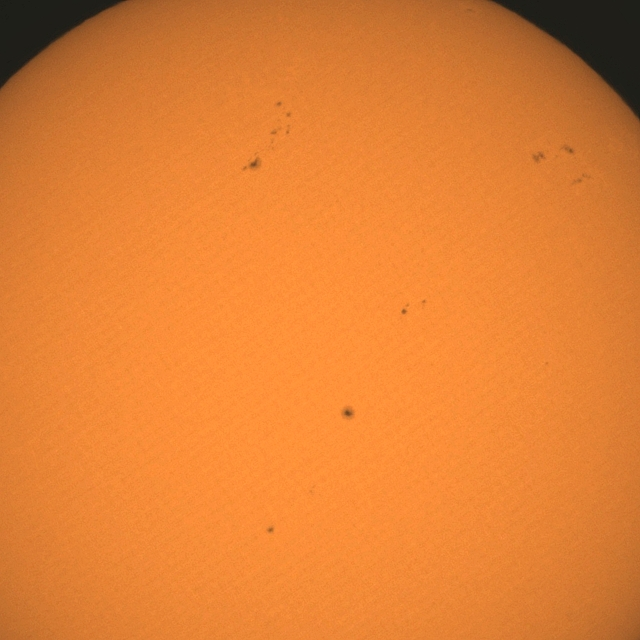sunspot: (532, 143, 575, 164), (272, 100, 292, 130), (402, 298, 427, 315), (241, 154, 262, 173), (572, 172, 592, 186), (340, 405, 356, 422), (532, 150, 548, 165), (558, 144, 574, 158), (400, 303, 410, 316), (265, 525, 275, 535), (420, 298, 428, 306), (275, 100, 283, 107)
